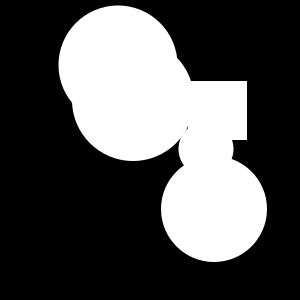circle: (188, 81, 247, 140)
rectangle: (72, 39, 194, 161), (58, 6, 178, 125), (161, 156, 267, 262), (178, 121, 234, 176)
